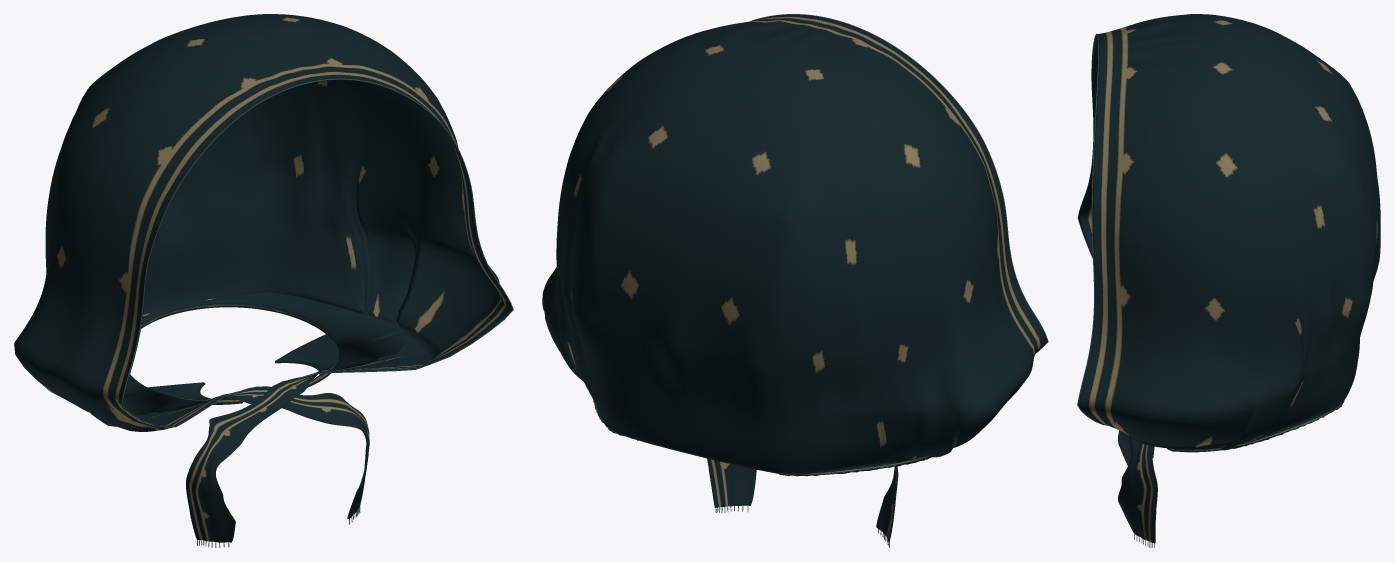
The model's file is Feminine-box-braids-bandeau-pashmina249-headgear.glb.
3 views of the same model, side by side, from view 1: azimuth 30°, elevation 25°; view 2: azimuth 150°, elevation 25°; view 3: azimuth 270°, elevation 25° (orthographic). The views are drawn at different scales.
Parts seen in each view (by area): view 1: 226 headgear / Headwear / continuous woven pashmina239, 226 headgear / Headwear / face edge239; view 2: 226 headgear / Headwear / continuous woven pashmina239, 226 headgear / Headwear / face edge239; view 3: 226 headgear / Headwear / continuous woven pashmina239, 226 headgear / Headwear / face edge239.
Part boxes in pixels (<box>): 226 headgear / Headwear / continuous woven pashmina239: <box>14,14,512,542</box>; 226 headgear / Headwear / face edge239: <box>121,78,513,427</box>; 226 headgear / Headwear / continuous woven pashmina239: <box>542,14,1047,541</box>; 226 headgear / Headwear / face edge239: <box>749,14,1048,353</box>; 226 headgear / Headwear / continuous woven pashmina239: <box>1078,14,1380,543</box>; 226 headgear / Headwear / face edge239: <box>1077,33,1107,425</box>.
Size of the model in its own units: 1.33 by 1.38 by 0.8075.
3 materials, 1 textured.
